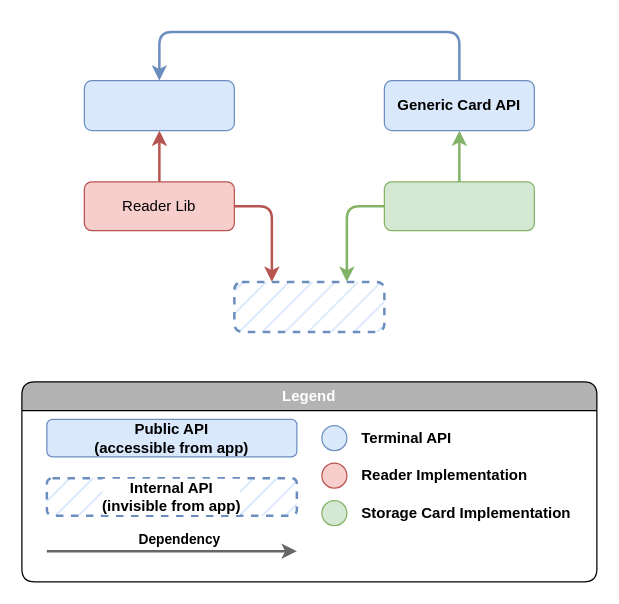
Image size: 619x604. Some labels were removed from this diagram. Each missing label, with the centre of its shape:
"Card API" goes at pixel 308 306.
"Generic Card Lib" goes at pixel 458 206.
"Reader API" goes at pixel 158 105.
